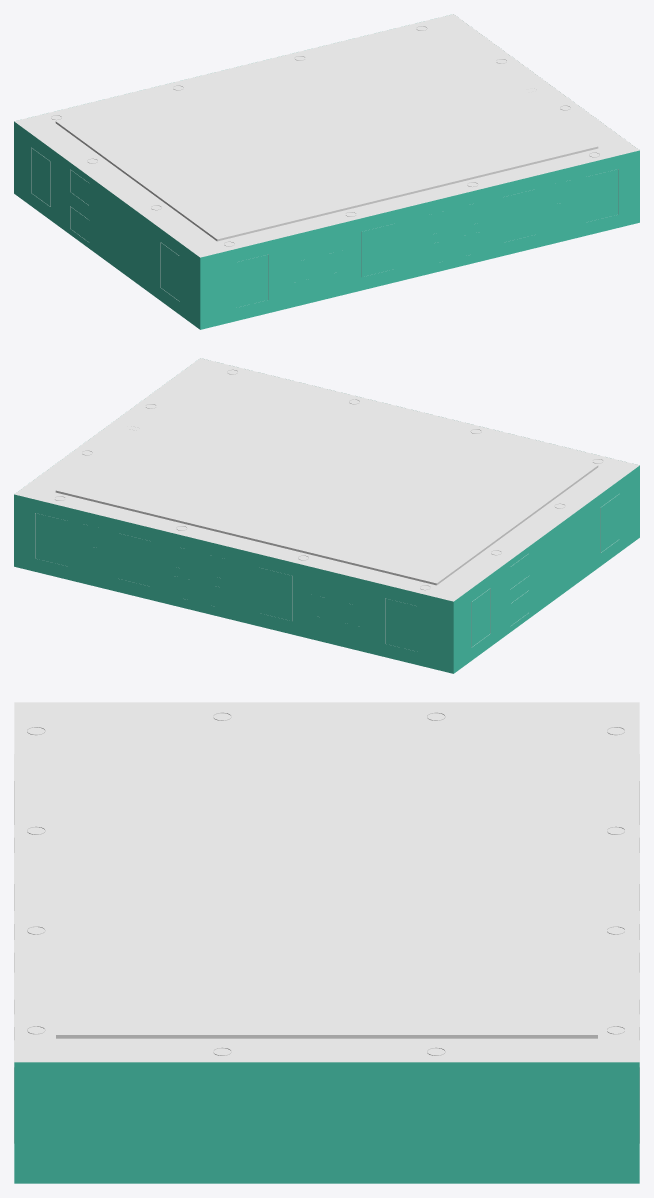
The model's file is Camadas.glb.
3 views of the same model, one above another, from view 1: azimuth 30°, elevation 25°; view 2: azimuth 150°, elevation 25°; view 3: azimuth 270°, elevation 25° (orthographic). The views are drawn at different scales.
Parts seen in each view (by area): view 1: Parede; view 2: Parede; view 3: Parede.
Part boxes in pixels (left/top/right/bottom): Parede: left=14, top=14, right=639, bottom=329; Parede: left=14, top=358, right=639, bottom=673; Parede: left=14, top=702, right=639, bottom=1183.
Bounding box in the file's own units: 2764 × 447 × 2029.
